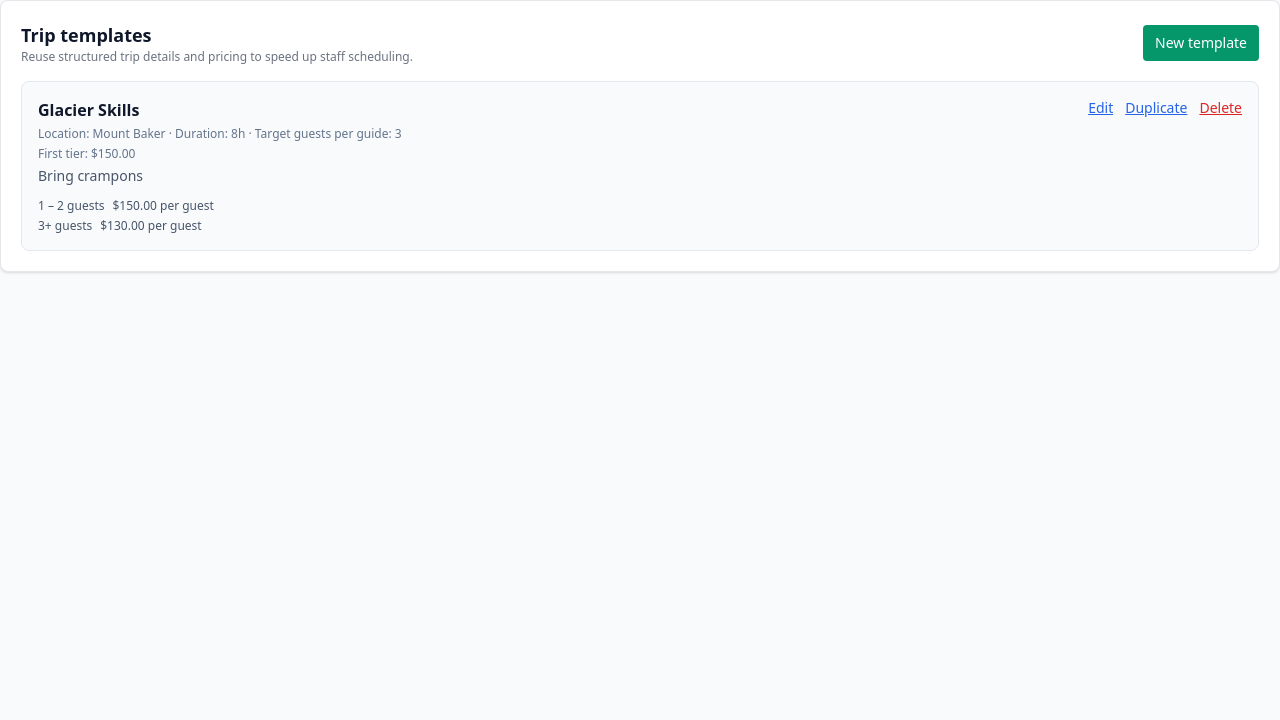
Test: ServiceTemplatesCard › duplicates a template
Check: the heading "Glacier Skills" is shown, box [38,99,140,121]
Click the button "Duplicate".
click(1156, 108)  # box [1125,98,1187,118]
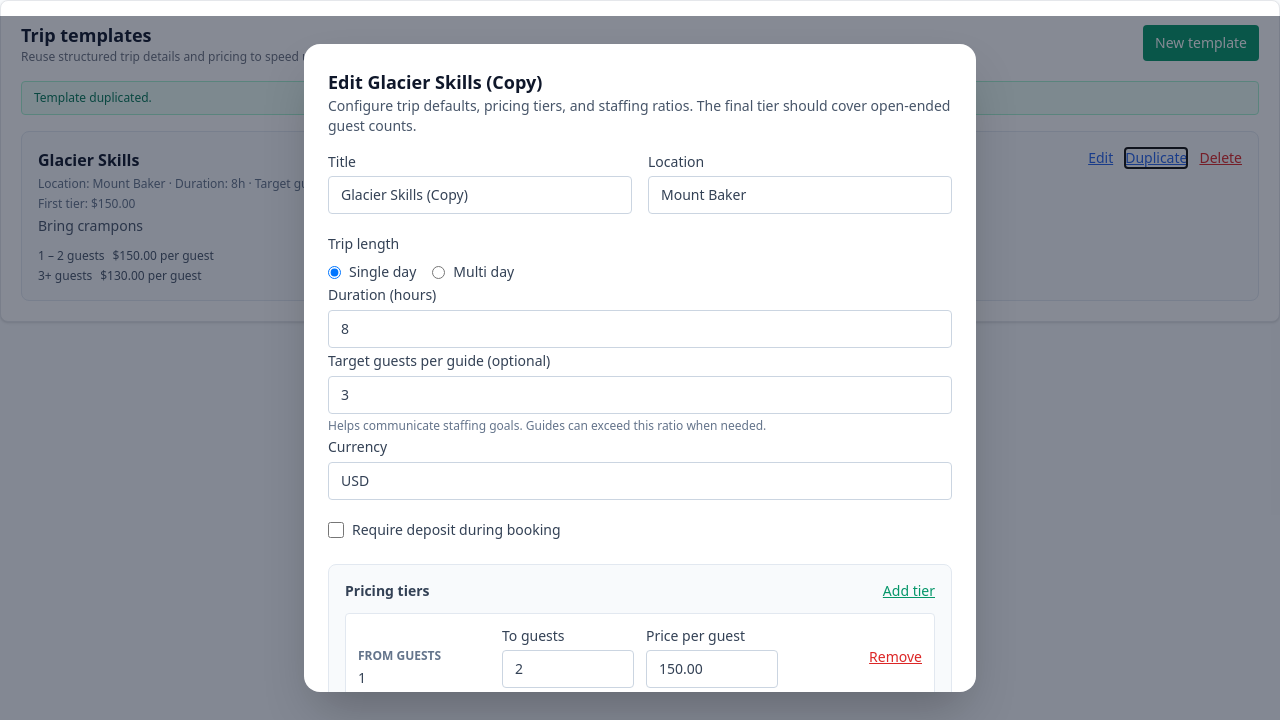
Check: the text "Template duplicated." is shown, box [21,81,1259,115]
Check: the heading "Edit Glacier Skills (Copy)" is shown, box [328,70,542,94]
